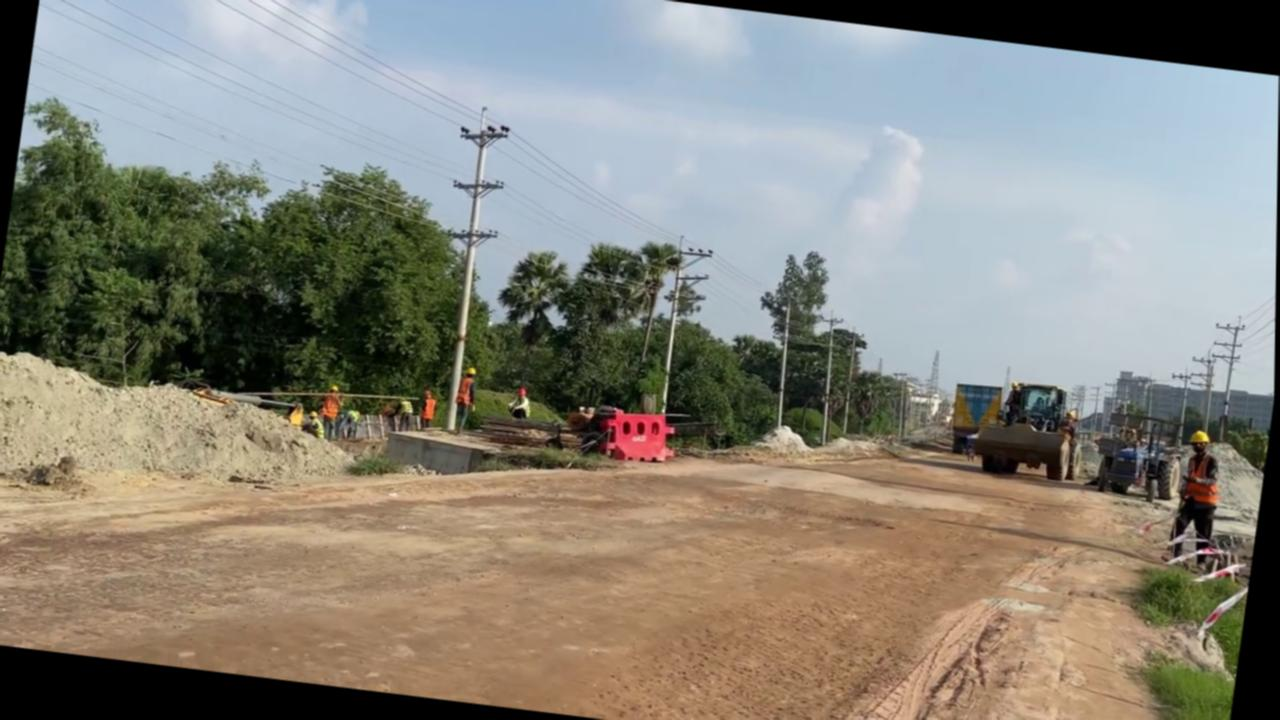Muddy road: (0, 423, 1239, 720)
Pole: (419, 104, 515, 434), (769, 296, 801, 428)
Traffic-sign: (743, 243, 835, 432), (485, 244, 575, 400)
Tree: (981, 378, 1101, 490), (1087, 408, 1190, 504), (948, 380, 1006, 458)
